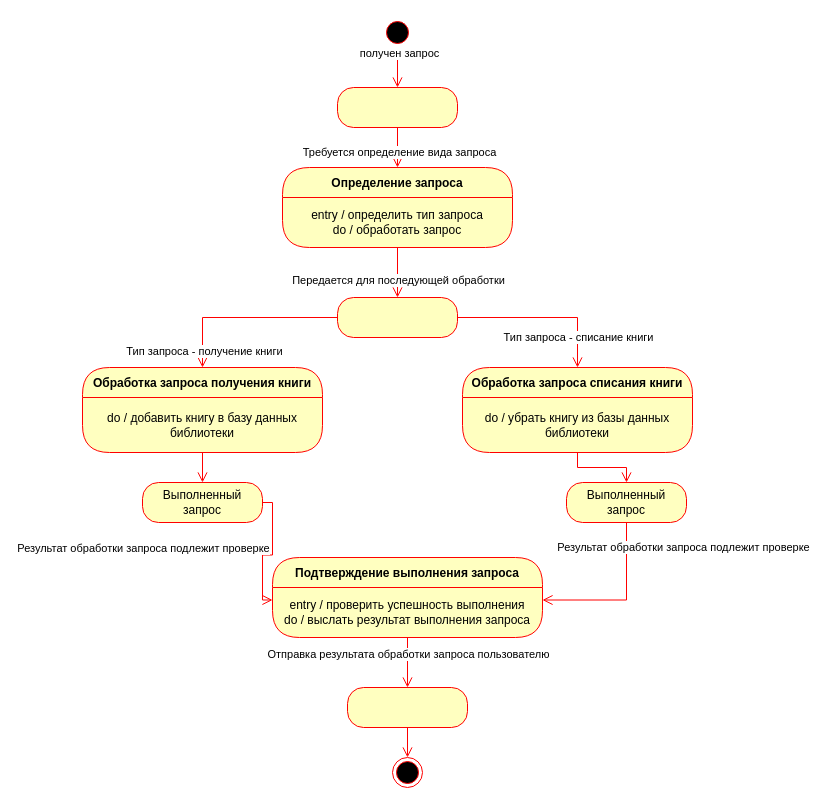
Image size: 827x805. Some labels were removed from this diagram. Here are the shapes that lost their labels. From the top down, the centre of each, then its label:
(397,107): Запрос
(397,317): Книга из запроса
(407,707): результат выполнения
